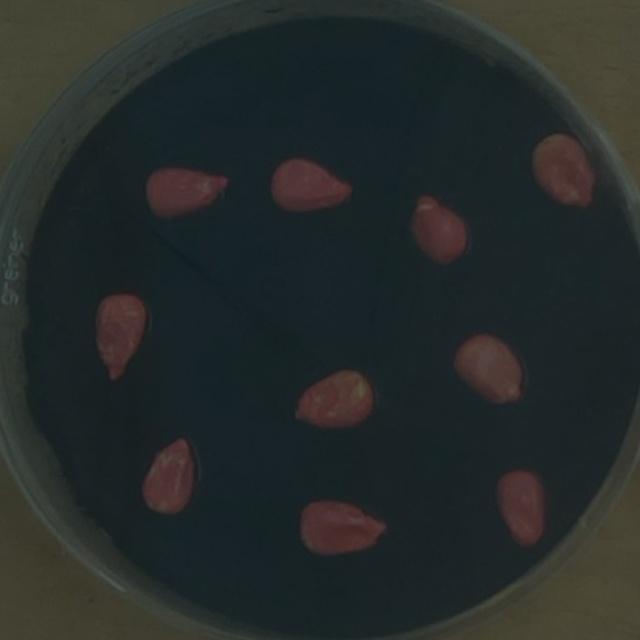Zea mays: (290, 491, 395, 566), (444, 326, 533, 413), (285, 360, 381, 439), (522, 125, 604, 216), (262, 147, 360, 220), (85, 284, 151, 390), (130, 427, 202, 524), (138, 157, 236, 228), (401, 187, 473, 276), (488, 462, 554, 555)
